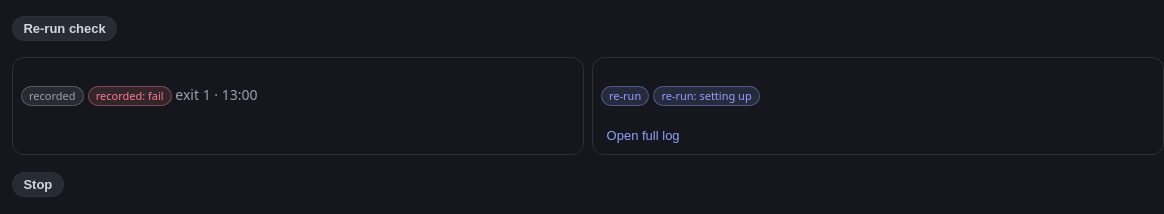
Test: RerunCheck › shows the running step, a polite live region and Stop, and stopping calls the backend
Expected: the button "Re-run check" is shown, top-left (12, 16), bottom-right (117, 41)
Expected: the element with test id "rerun-latest" shows "re-run: setting up", top-left (661, 88), bottom-right (752, 103)
Click the button "Stop": (38, 184) top-left (12, 172), bottom-right (64, 197)
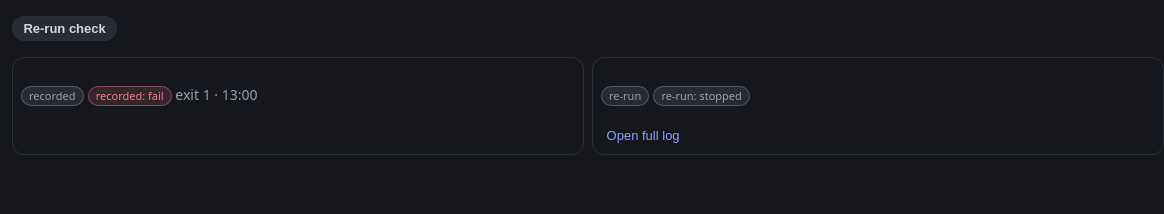
Expected: the element with test id "rerun-latest" shows "re-run: stopped", top-left (661, 88), bottom-right (742, 103)
